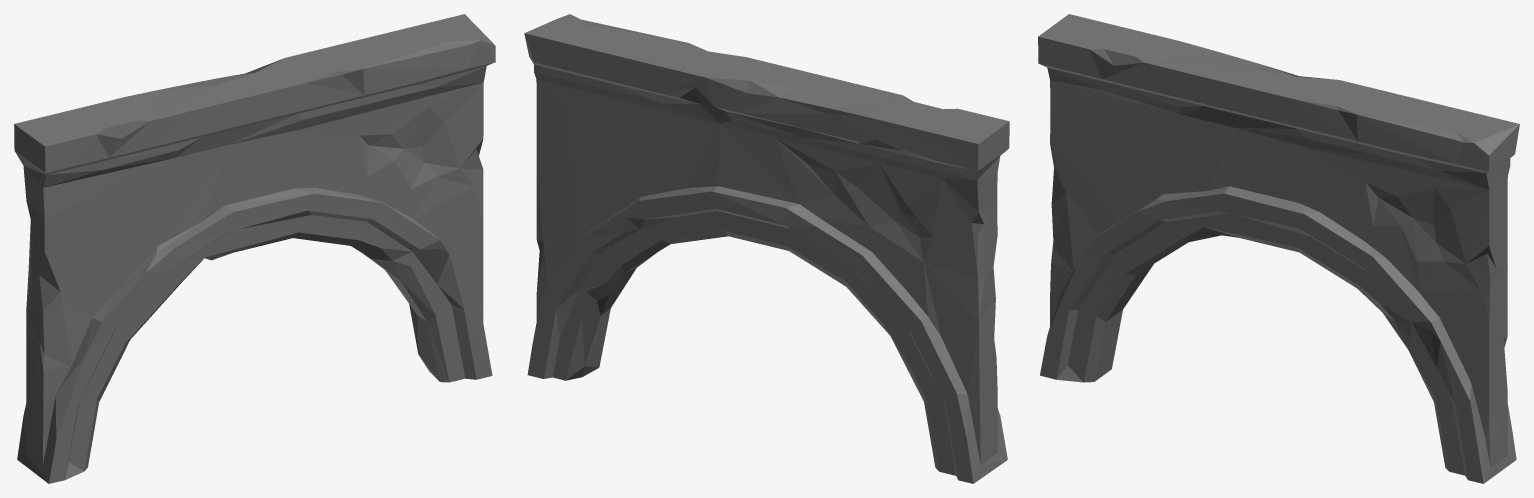
File: SM_Env_Wall_Archway_01.glb
3 renders of one model, left to right at view 1: azimuth 30°, elevation 25°; view 2: azimuth 150°, elevation 25°; view 3: azimuth 330°, elevation 25°, orthographic.
Parts seen in each view (by area): view 1: SM_Env_Wall_Archway_01; view 2: SM_Env_Wall_Archway_01; view 3: SM_Env_Wall_Archway_01.
Part boxes in pixels (x1,y1,x2,y2): SM_Env_Wall_Archway_01: (14, 14, 495, 483); SM_Env_Wall_Archway_01: (524, 14, 1009, 483); SM_Env_Wall_Archway_01: (1038, 14, 1519, 483).
Size of the model in its own units: 0.0513 by 0.0368 by 0.0065.
Materials: 1 (1 with a texture image).
